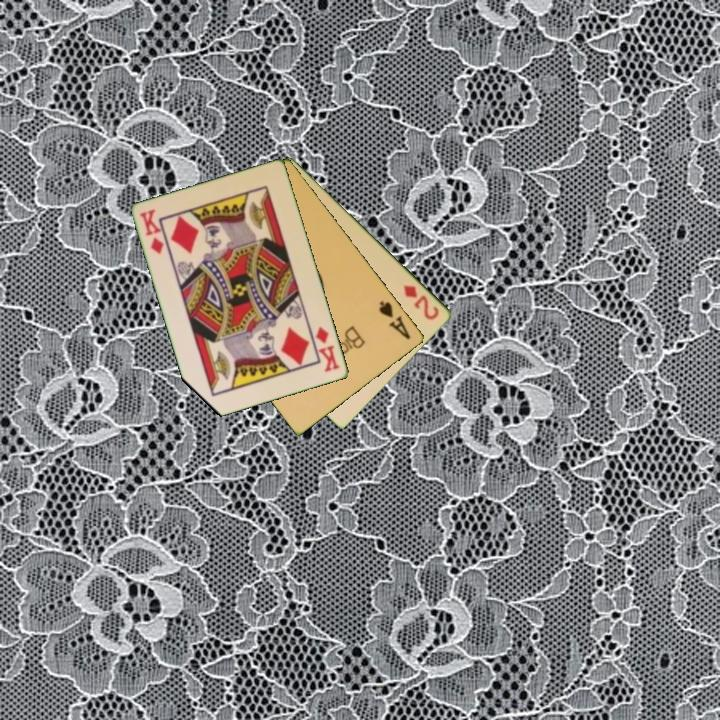2d: (400, 281, 442, 323)
As: (376, 297, 414, 343)
Kd: (312, 323, 343, 375), (136, 206, 167, 258)
